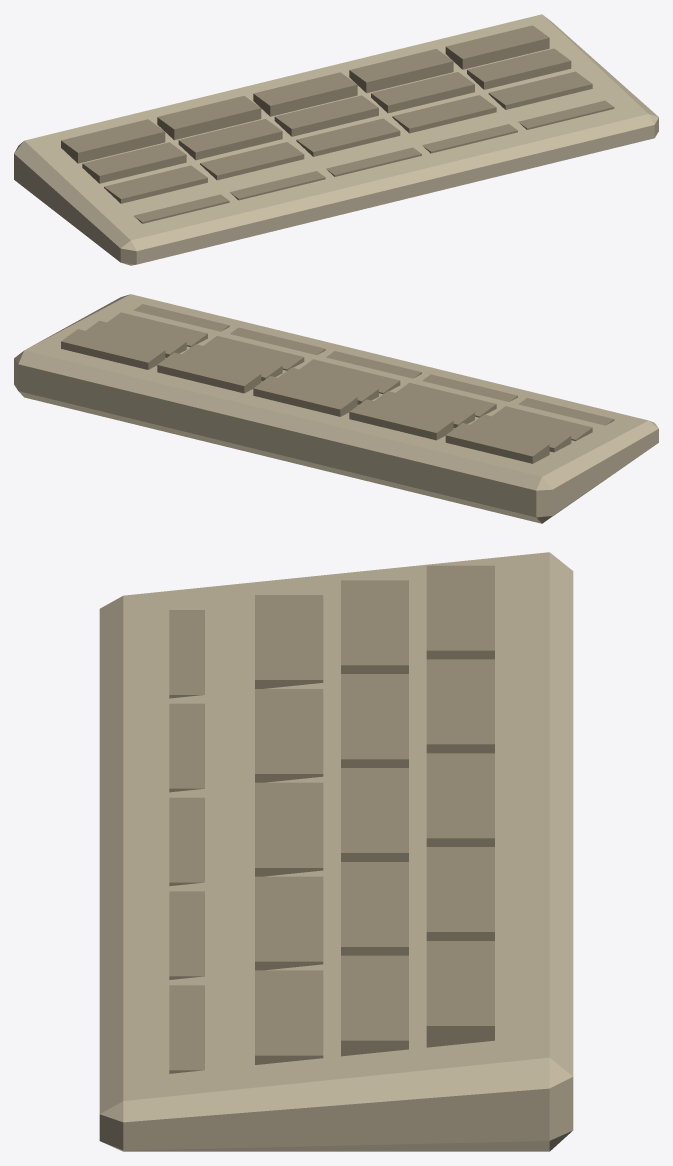
Rendered from keyboard_retro.glb.
3 views of the same model, one above another, from view 1: azimuth 30°, elevation 25°; view 2: azimuth 150°, elevation 25°; view 3: azimuth 270°, elevation 25° (orthographic). The views are drawn at different scales.
Visible parts, largest first — view 1: Carcasa teclado, Grupo teclas.015, Grupo teclas.017, Grupo teclas.016, Grupo teclas.018, Grupo teclas.019, Grupo teclas.014, Grupo teclas.011, Grupo teclas.010, Grupo teclas.012, Grupo teclas.013, Grupo teclas.007 (+9 smaller); view 2: Carcasa teclado, Grupo teclas.015, Grupo teclas.016, Grupo teclas.018, Grupo teclas.019, Grupo teclas.017, Grupo teclas.010, Grupo teclas.013, Grupo teclas.012, Grupo teclas.011, Grupo teclas.014, Grupo teclas.005 (+9 smaller); view 3: Carcasa teclado, Grupo teclas.019, Grupo teclas.014, Grupo teclas.016, Grupo teclas.015, Grupo teclas.017, Grupo teclas.018, Grupo teclas.010, Grupo teclas.011, Grupo teclas.012, Grupo teclas.013, Grupo teclas.007 (+9 smaller).
Boxes of the visible parts, left/top/right/bottom form: Carcasa teclado: left=14, top=14, right=658, bottom=265; Grupo teclas.015: left=61, top=119, right=165, bottom=163; Grupo teclas.017: left=253, top=72, right=357, bottom=116; Grupo teclas.016: left=157, top=96, right=261, bottom=140; Grupo teclas.018: left=349, top=49, right=453, bottom=93; Grupo teclas.019: left=445, top=25, right=549, bottom=69; Grupo teclas.014: left=467, top=48, right=571, bottom=89; Grupo teclas.011: left=178, top=119, right=282, bottom=160; Grupo teclas.010: left=82, top=142, right=186, bottom=183; Grupo teclas.012: left=274, top=95, right=378, bottom=136; Grupo teclas.013: left=371, top=72, right=474, bottom=113; Grupo teclas.007: left=296, top=118, right=400, bottom=156; Carcasa teclado: left=14, top=294, right=658, bottom=523; Grupo teclas.015: left=445, top=423, right=549, bottom=463; Grupo teclas.016: left=349, top=399, right=453, bottom=440; Grupo teclas.018: left=157, top=352, right=261, bottom=393; Grupo teclas.019: left=61, top=329, right=165, bottom=369; Grupo teclas.017: left=253, top=376, right=357, bottom=416; Grupo teclas.010: left=470, top=414, right=571, bottom=452; Grupo teclas.013: left=182, top=344, right=282, bottom=381; Grupo teclas.012: left=278, top=367, right=378, bottom=404; Grupo teclas.011: left=374, top=391, right=474, bottom=428; Grupo teclas.014: left=86, top=320, right=186, bottom=357; Grupo teclas.005: left=492, top=406, right=592, bottom=441; Carcasa teclado: left=99, top=552, right=573, bottom=1151; Grupo teclas.019: left=426, top=941, right=494, bottom=1047; Grupo teclas.014: left=341, top=955, right=408, bottom=1056; Grupo teclas.016: left=426, top=659, right=494, bottom=753; Grupo teclas.015: left=426, top=565, right=494, bottom=659; Grupo teclas.017: left=426, top=753, right=494, bottom=846; Grupo teclas.018: left=426, top=847, right=494, bottom=940; Grupo teclas.010: left=341, top=580, right=408, bottom=673; Grupo teclas.011: left=341, top=674, right=408, bottom=767; Grupo teclas.012: left=341, top=768, right=408, bottom=861; Grupo teclas.013: left=341, top=862, right=408, bottom=955; Grupo teclas.007: left=255, top=782, right=323, bottom=876.
Size of the model in its own units: 0.42 by 0.0385 by 0.16.
